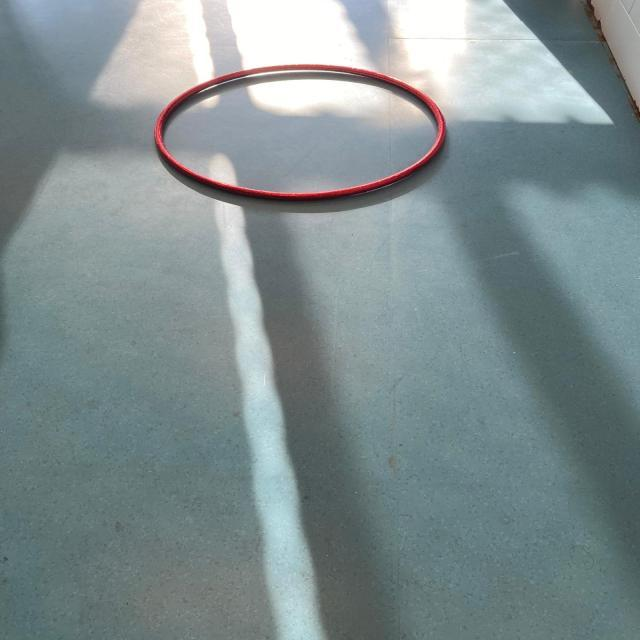redcircle: (148, 59, 453, 207)
